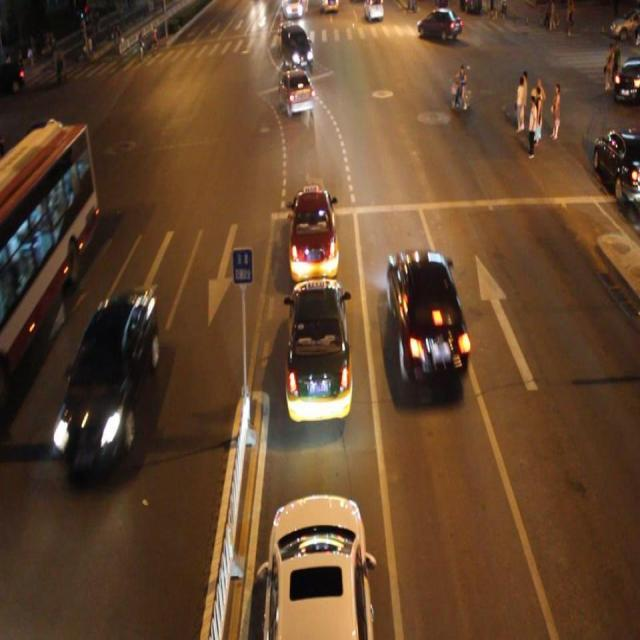BigCar: (0, 113, 94, 394)
car: (52, 290, 178, 499), (262, 484, 375, 640), (384, 241, 471, 416), (278, 271, 358, 409), (285, 172, 339, 272), (597, 122, 640, 236), (278, 8, 323, 73), (608, 49, 640, 135), (278, 65, 317, 121), (415, 0, 459, 47)
